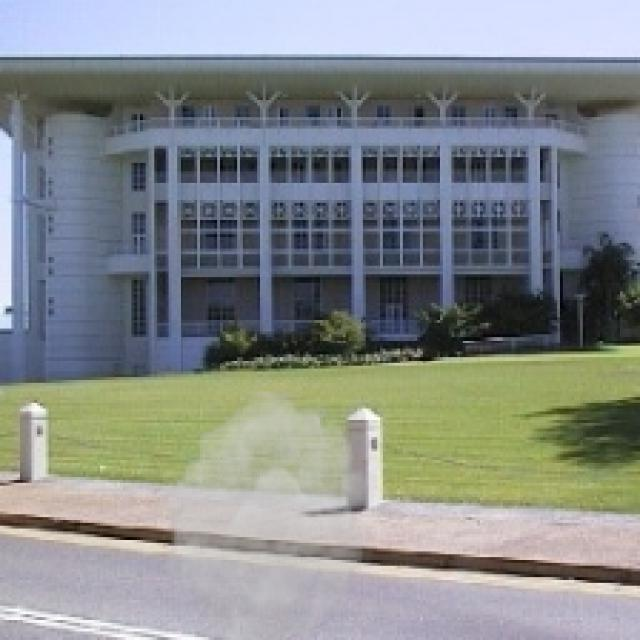Smoke: (151, 392, 383, 637)
